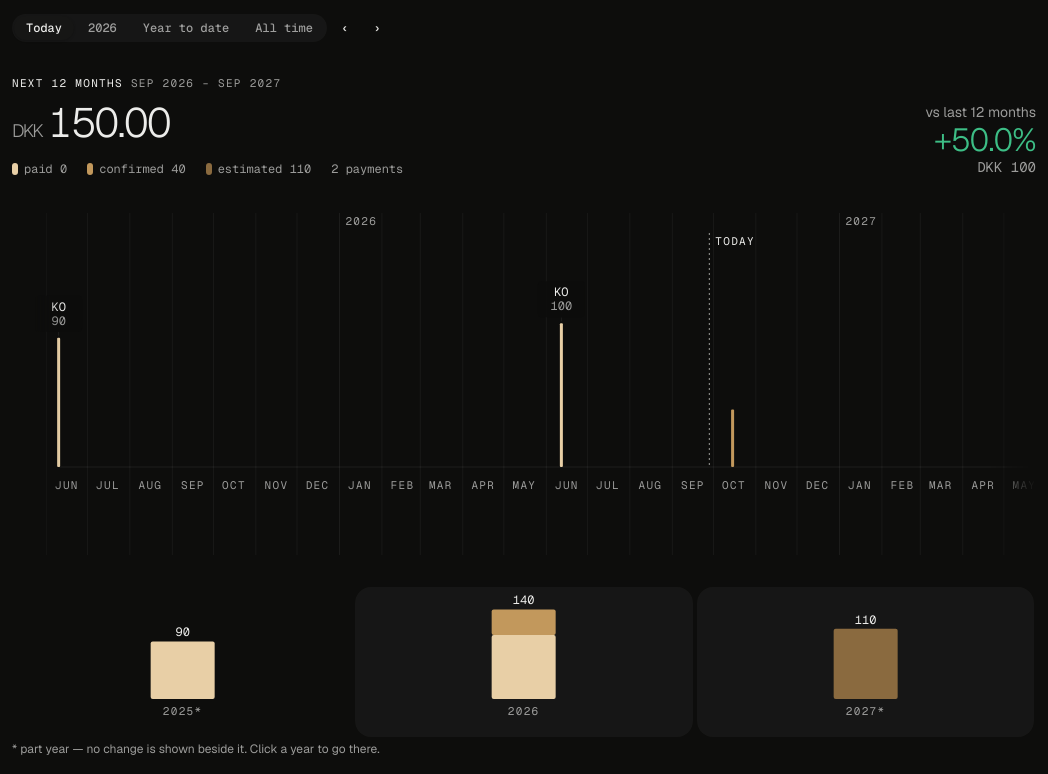
it: IncomeTape › switches range from the control
The image size is (1048, 774).
Click the radio button labelled "All time". click: (284, 28)
box: [243,16,325,40]
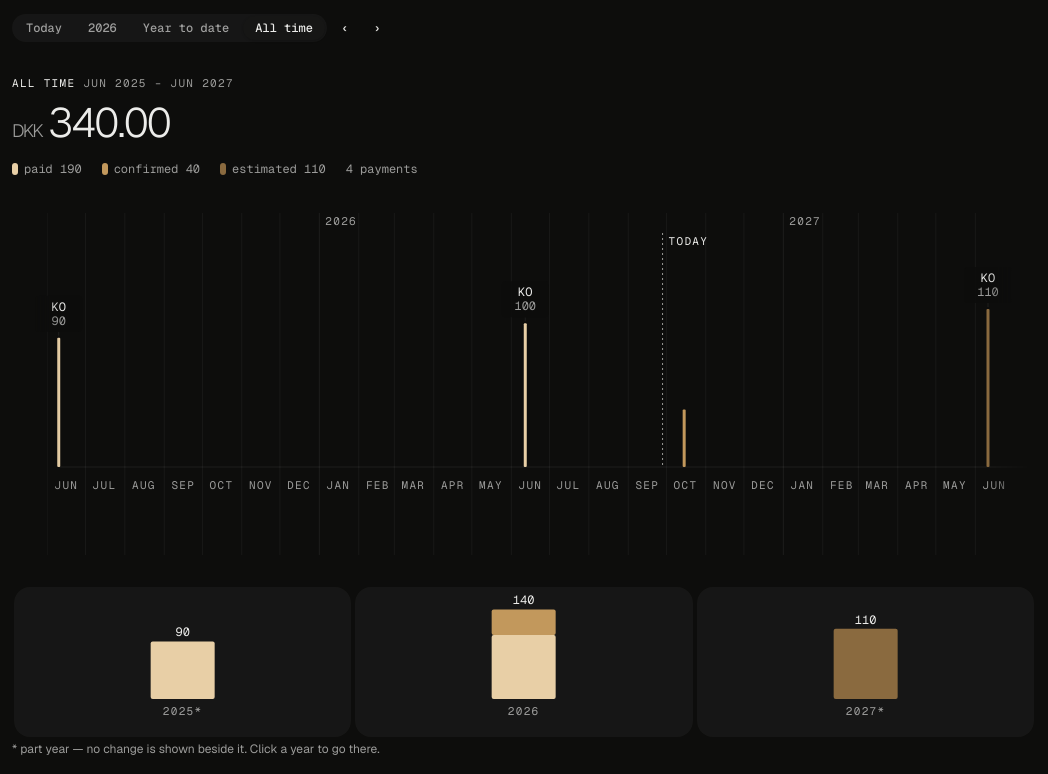
Check: the text "340.00" is shown, box [48,96,170,149]
Check: the text "vs " is gone
